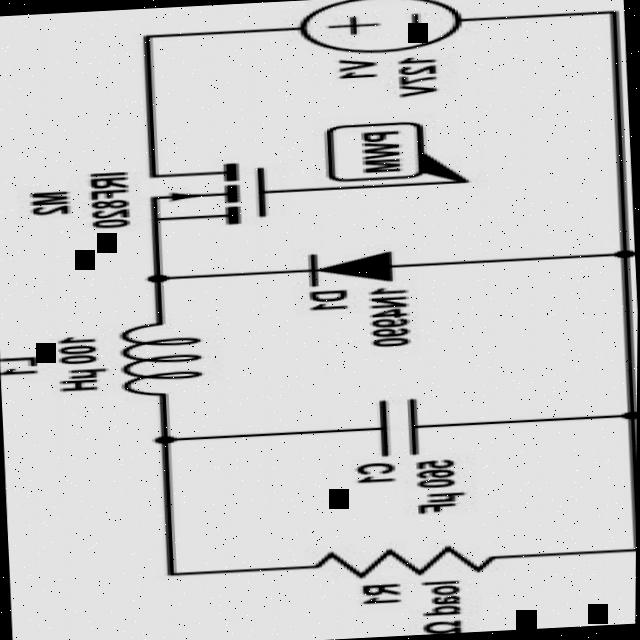capacitor: (344, 389, 466, 465)
diode: (282, 241, 427, 294)
inductor: (112, 309, 230, 403)
mosfet: (123, 147, 298, 240)
node: (129, 268, 188, 290), (136, 430, 183, 449), (603, 406, 638, 424), (601, 246, 636, 264)
resistor: (284, 533, 534, 591)
source: (280, 0, 484, 66)
